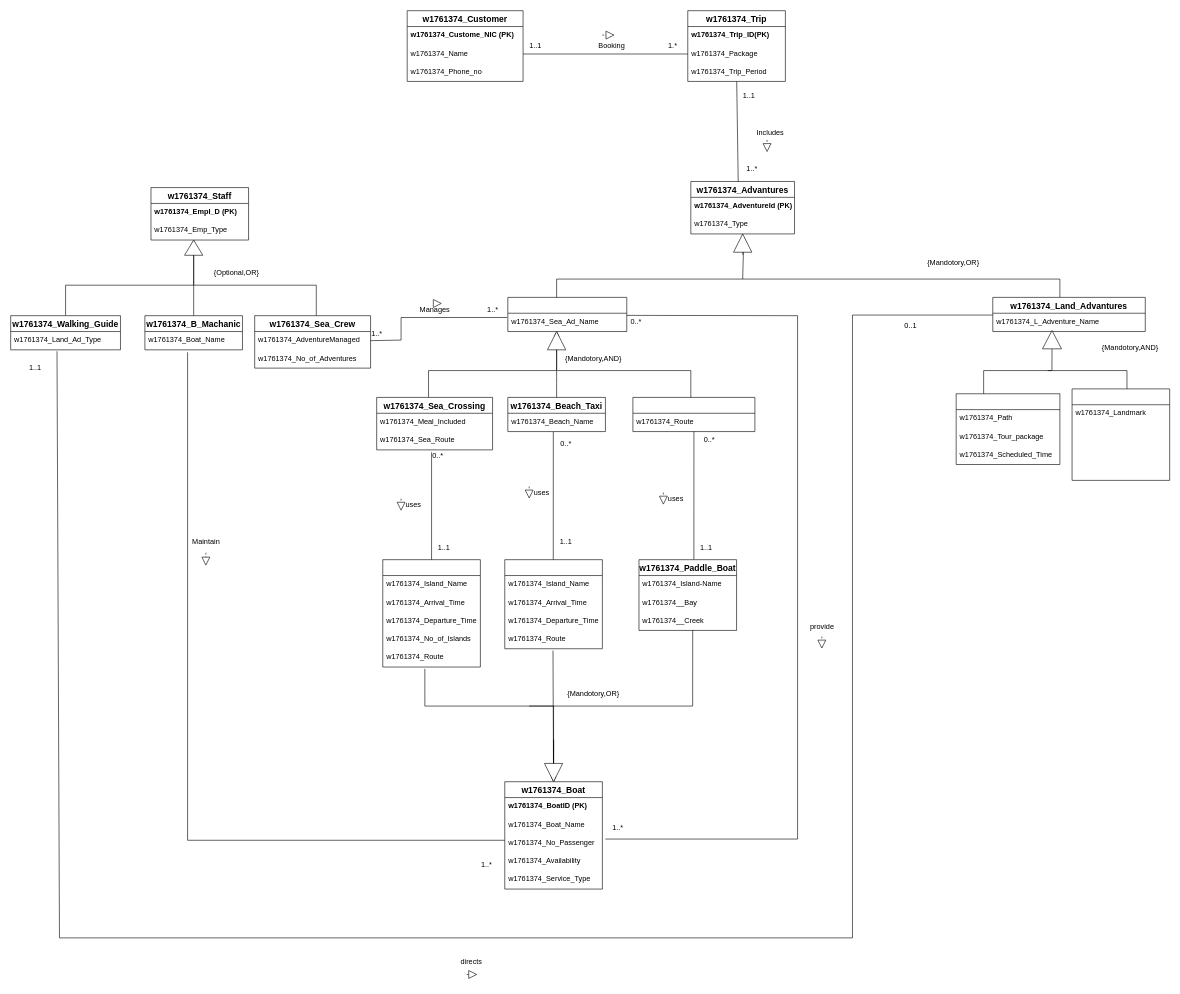
The diagram is 1180 pixels wide and 994 high, and some of its shapes have lost their labels. Each missing label, with the box of its shape:
w1761374_Guided_Visit: (1071, 388, 1170, 480)
w1761374_Large_boat: (504, 559, 602, 649)
w1761374_Marine_Exploration: (632, 397, 755, 432)
w1761374_Sea_Advantures: (507, 297, 627, 332)
w1761374_Small_Boat: (382, 559, 480, 667)
w1761374_Walking_Tour: (956, 393, 1060, 465)
